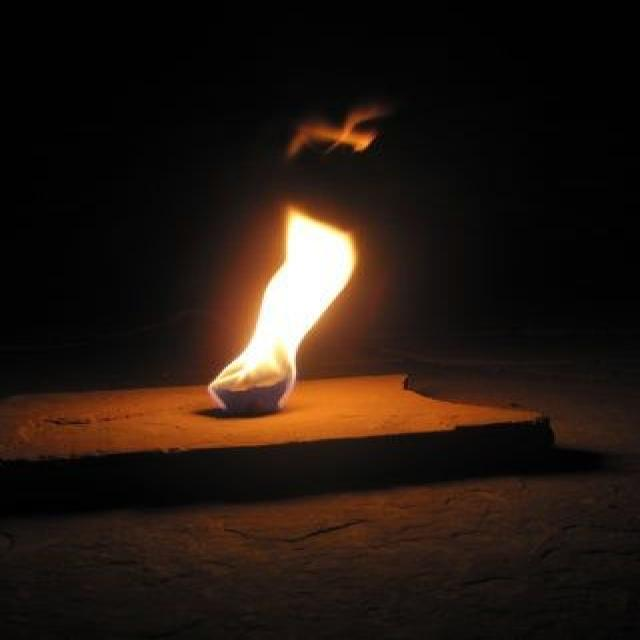fire: (207, 205, 357, 414)
